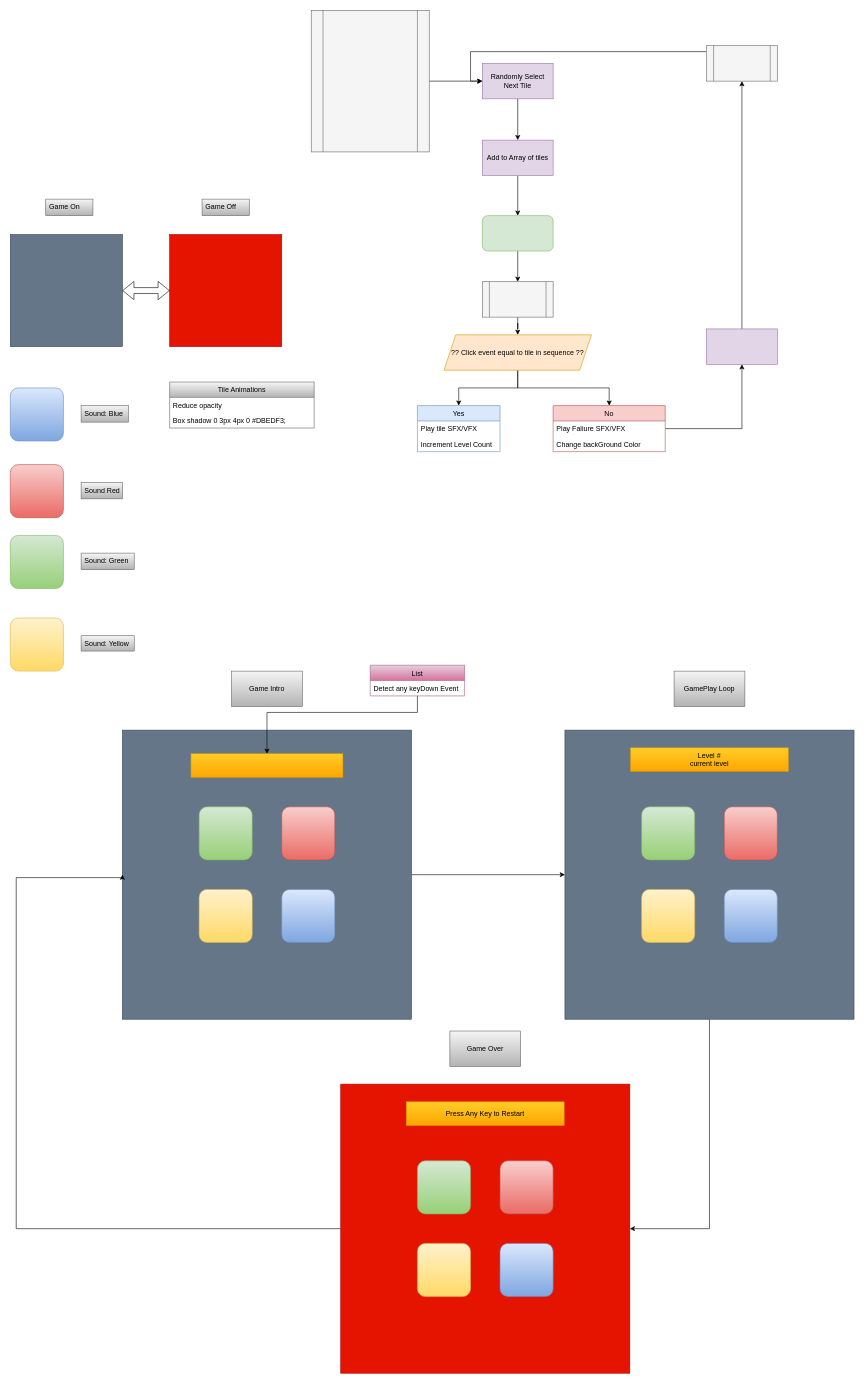
The diagram is 864 pixels wide and 1384 high, and some of its shapes have lost their labels. Each missing label, with the centre of its shape:
"Animate chosen Tile: sfx/vfx" goes at pixel 517 233.
"Press Any key to start" goes at pixel 266 765.
"Press AnyKey to Restart" goes at pixel 741 346.
"Title Screen: Wait for user key down event" goes at pixel 370 81.
"Wait for user click" goes at pixel 517 299.
"Wait for user keypress" goes at pixel 741 63.
